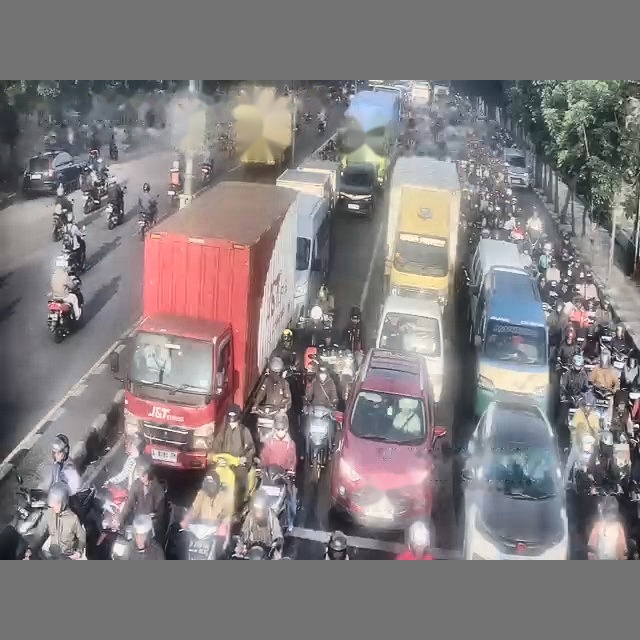Mobil: (330, 348, 446, 530), (462, 401, 568, 559), (376, 295, 444, 403), (22, 149, 81, 195)
Motor: (302, 405, 340, 481), (258, 466, 294, 530), (181, 521, 230, 560), (47, 298, 76, 343), (253, 405, 279, 442), (138, 205, 156, 240), (105, 202, 123, 229)
Truk: (122, 182, 301, 469), (385, 156, 460, 307)
